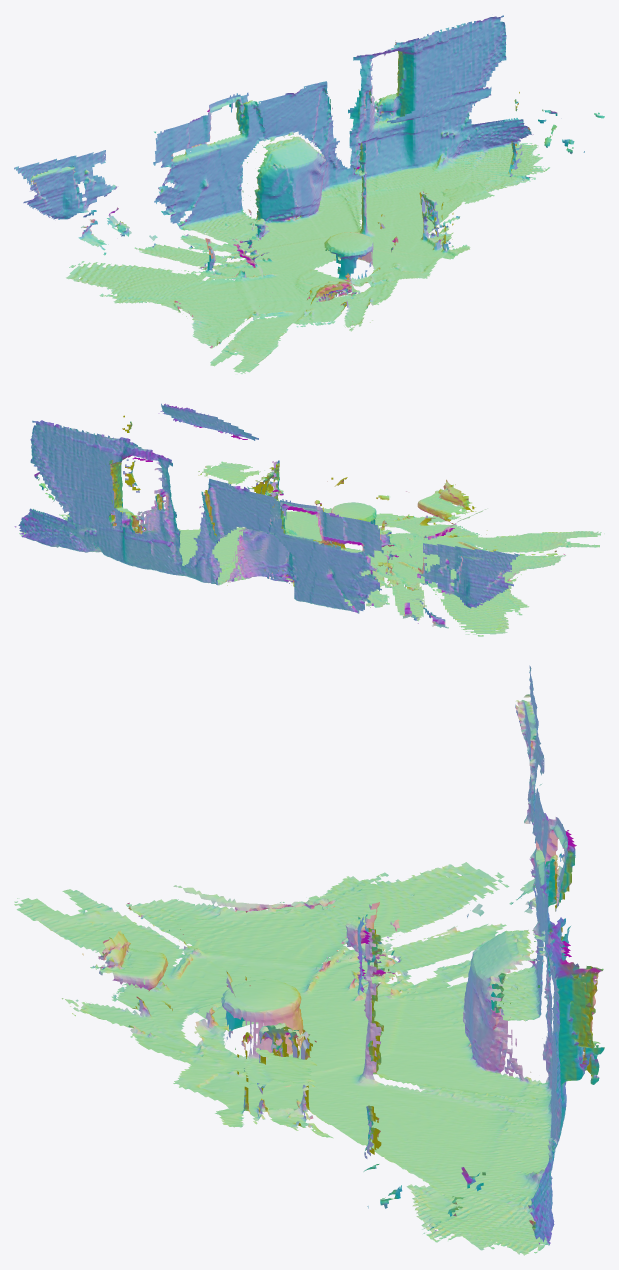
Rendered from background.glb.
The picture shows the model from 3 angles, top to bottom: view 1: azimuth 30°, elevation 25°; view 2: azimuth 150°, elevation 25°; view 3: azimuth 270°, elevation 25°; orthographic projection. The views are drawn at different scales.
Parts seen in each view (by area): view 1: AbundanceScan-2026-07-18_193233.glb; view 2: AbundanceScan-2026-07-18_193233.glb; view 3: AbundanceScan-2026-07-18_193233.glb.
Boxes of the visible parts, x1,y1,x2,y2 form: AbundanceScan-2026-07-18_193233.glb: (14, 15, 604, 373); AbundanceScan-2026-07-18_193233.glb: (14, 403, 604, 636); AbundanceScan-2026-07-18_193233.glb: (14, 665, 604, 1255).
Size of the model in its own units: 9.81 by 2.41 by 5.65.
